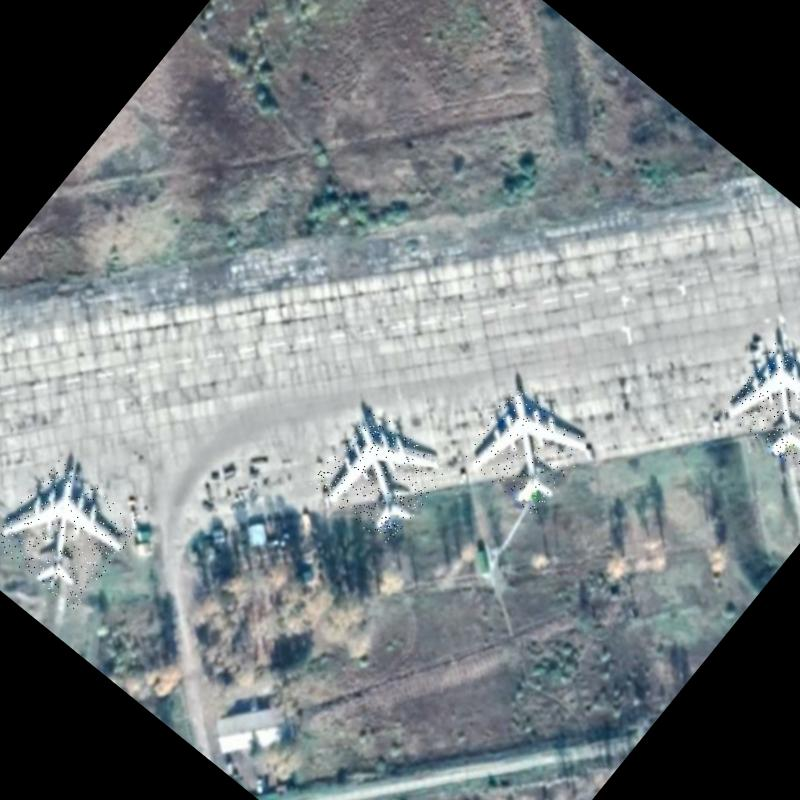A17: (0, 456, 142, 611), (309, 406, 450, 548), (458, 383, 592, 517), (720, 342, 800, 469)
